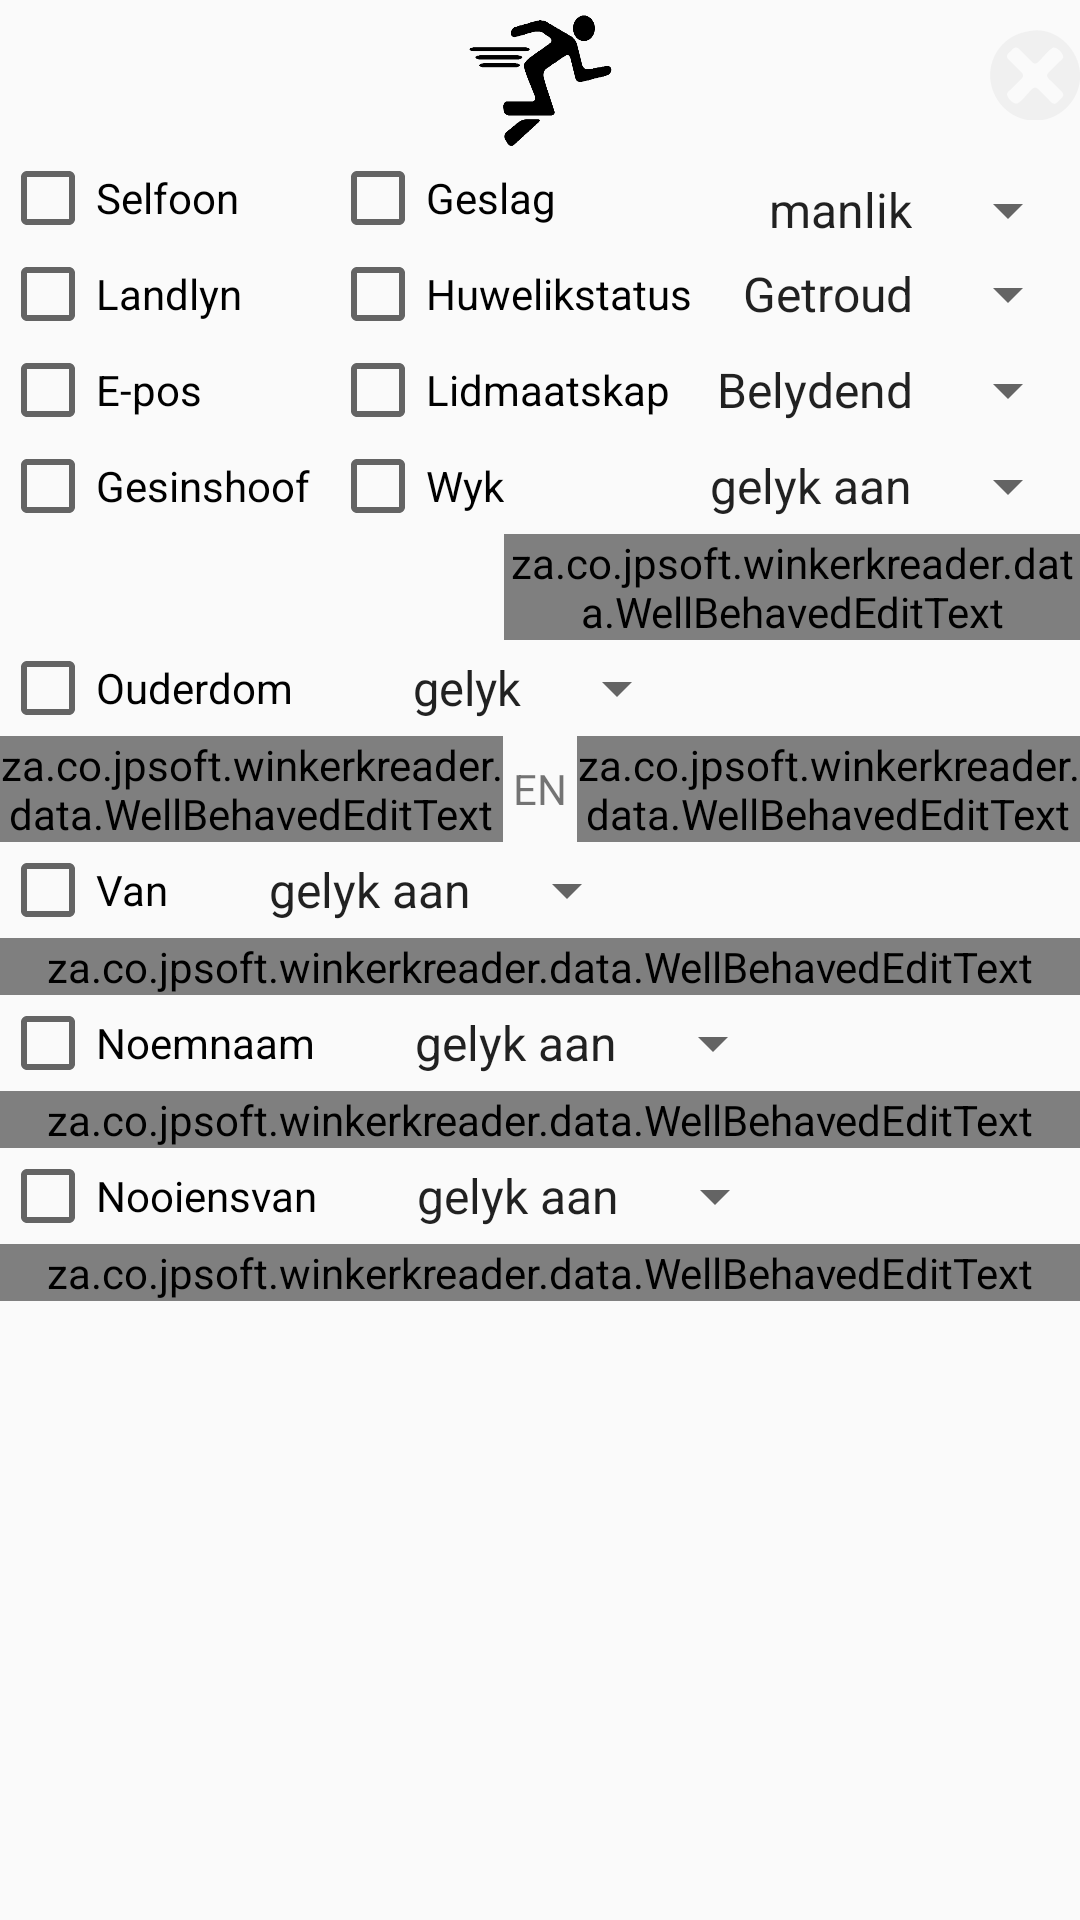

Named icons in this screenshot (1080*1920) and their centers, point (x, y):
run: point (540, 80)
